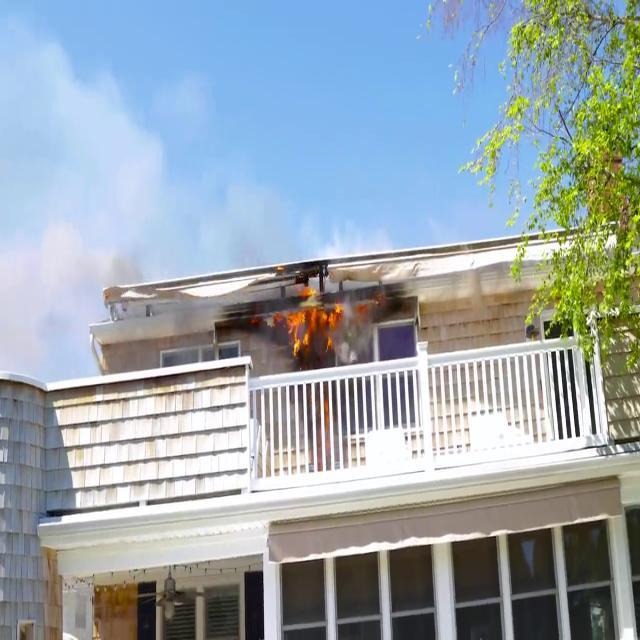Fire: (272, 270, 351, 364)
